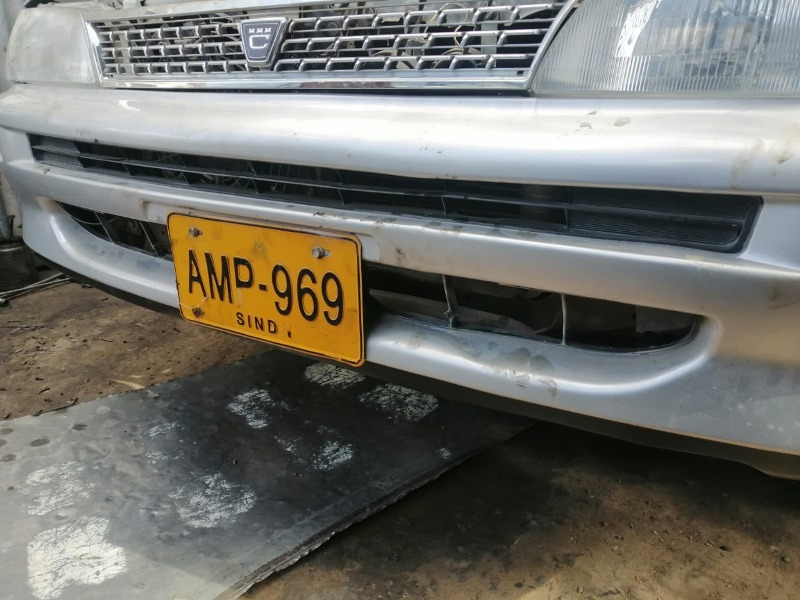License Plate: (162, 209, 365, 368)
